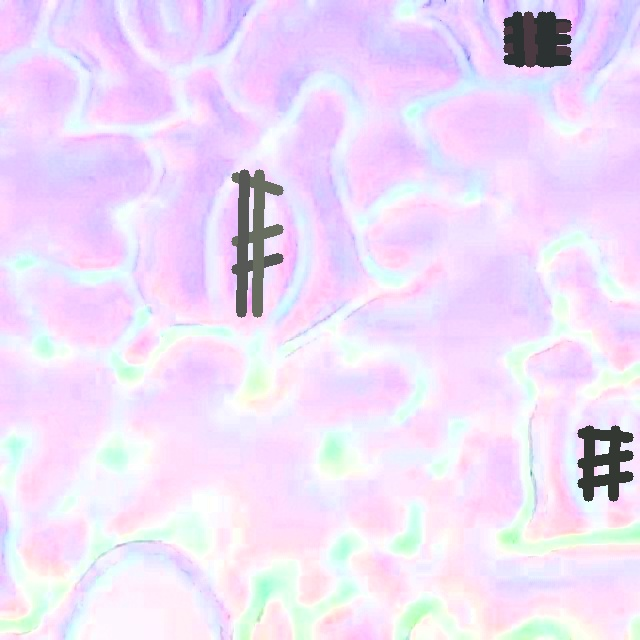close: (577, 426, 632, 500)
open: (231, 169, 283, 317), (504, 12, 570, 67)
